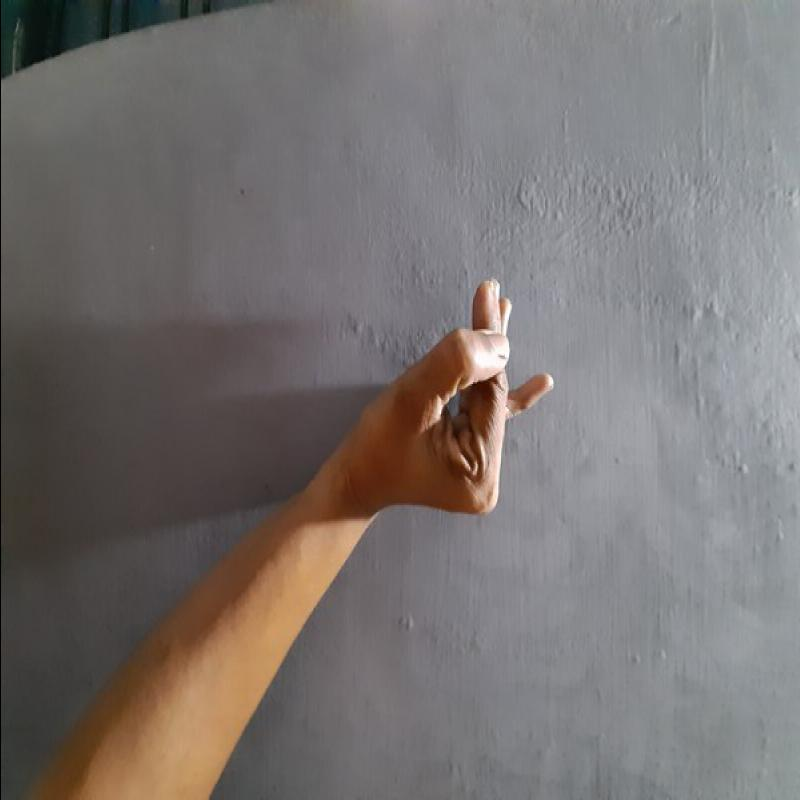Kartharee Mukham: (330, 272, 562, 526)
